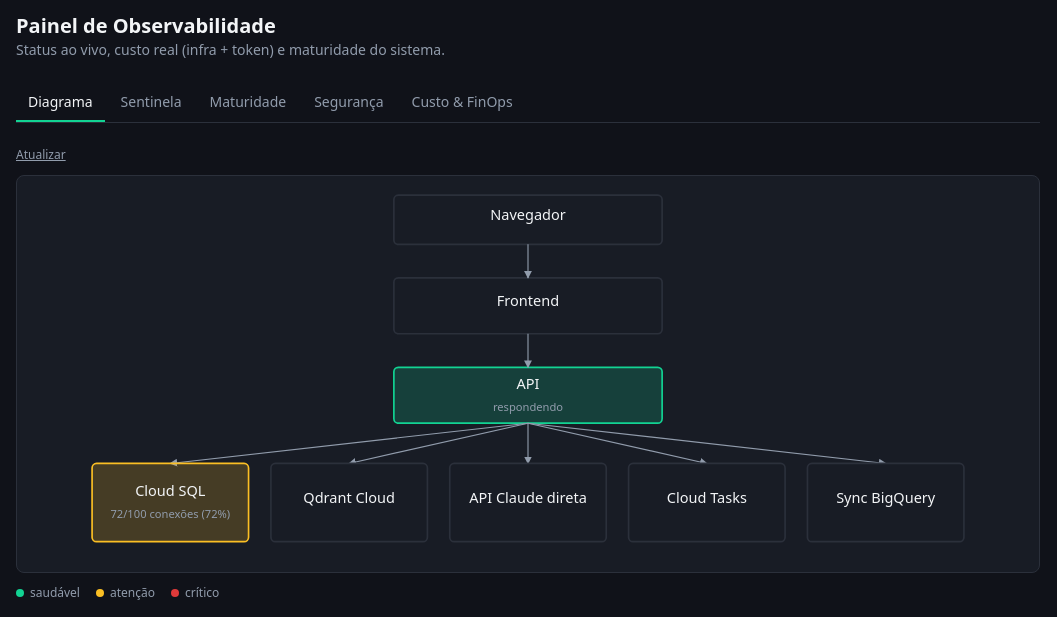
Scenario: PainelPage › troca para a aba Sentinela e lista o status em tabela
This screenshot has width=1057, height=617.
Click the tab "Sentinela" at [151, 103], box [109,84,194,122]
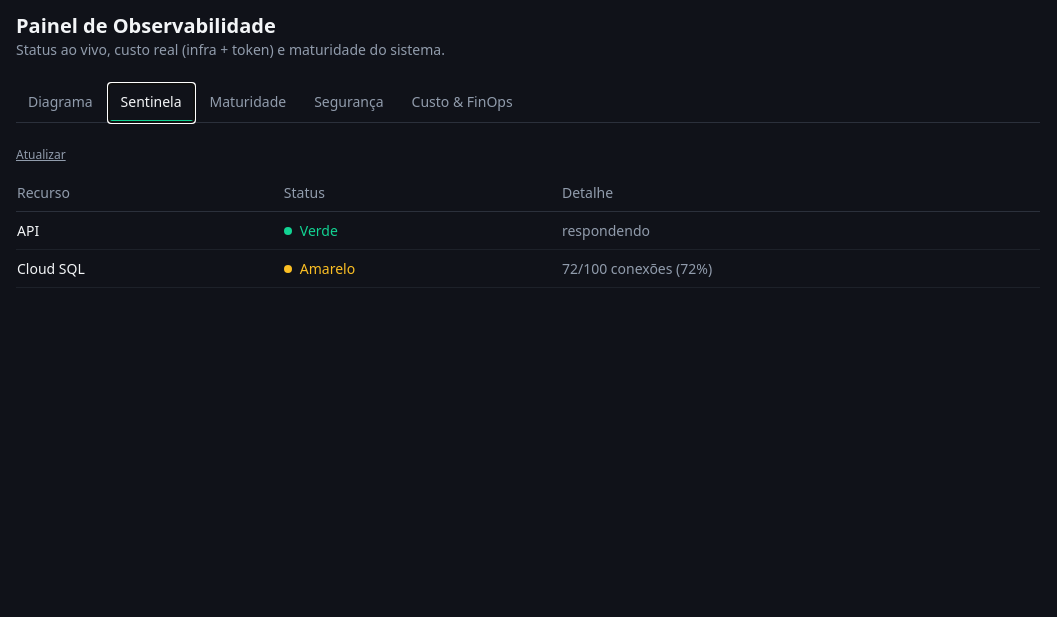
Expected: the text "72/100 conexões (72%)" is shown, [561,250,1040,288]
Now the text "amarelo" is shown, box [284,259,355,279]
